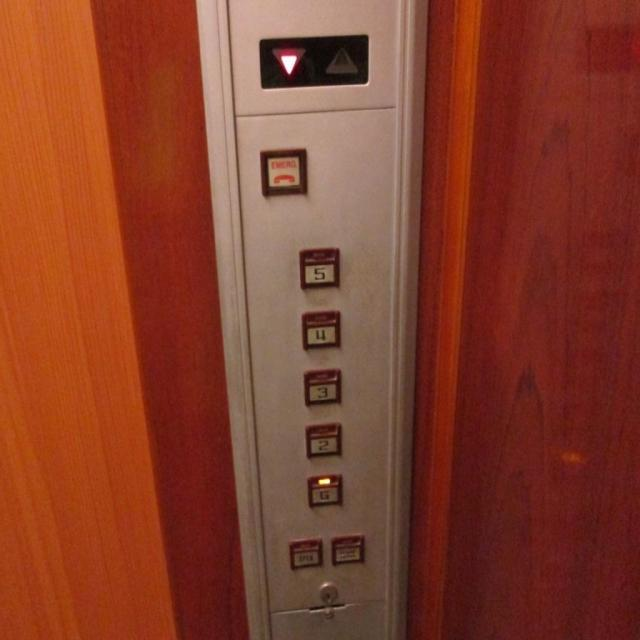2: (305, 422, 340, 457)
3: (303, 368, 341, 407)
4: (301, 311, 340, 350)
5: (298, 248, 339, 289)
G: (307, 473, 342, 507)
blur: (330, 533, 364, 565), (288, 538, 322, 569)
call: (259, 148, 307, 198)
keyhole: (316, 583, 338, 605)
led: (258, 32, 370, 88)
